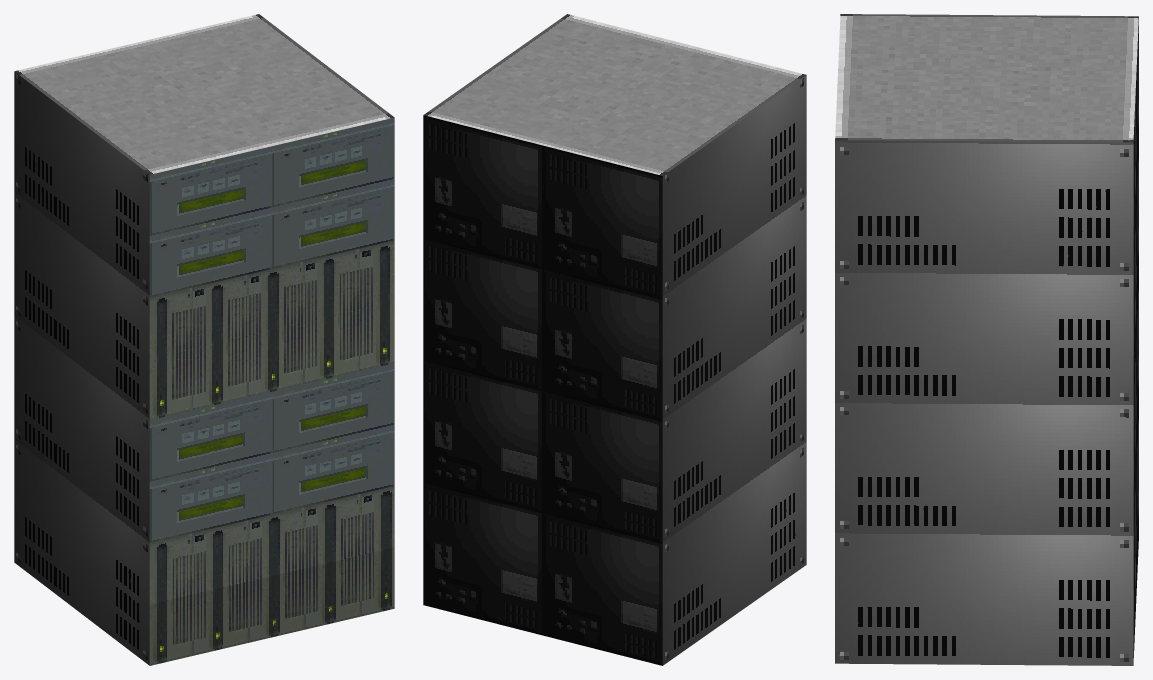
Rendered from mainframe.glb.
3 renders of one model, left to right at view 1: azimuth 30°, elevation 25°; view 2: azimuth 150°, elevation 25°; view 3: azimuth 270°, elevation 25°, orthographic. The views are drawn at different scales.
Parts seen in each view (by area): view 1: Object; view 2: Object; view 3: Object.
Part boxes in pixels (x1,y1,x2,y2): Object: [14, 14, 394, 665]; Object: [423, 14, 806, 665]; Object: [835, 14, 1138, 665].
Size of the model in its own units: 1.08 by 2.05 by 1.08.
9 materials, 9 textured.
